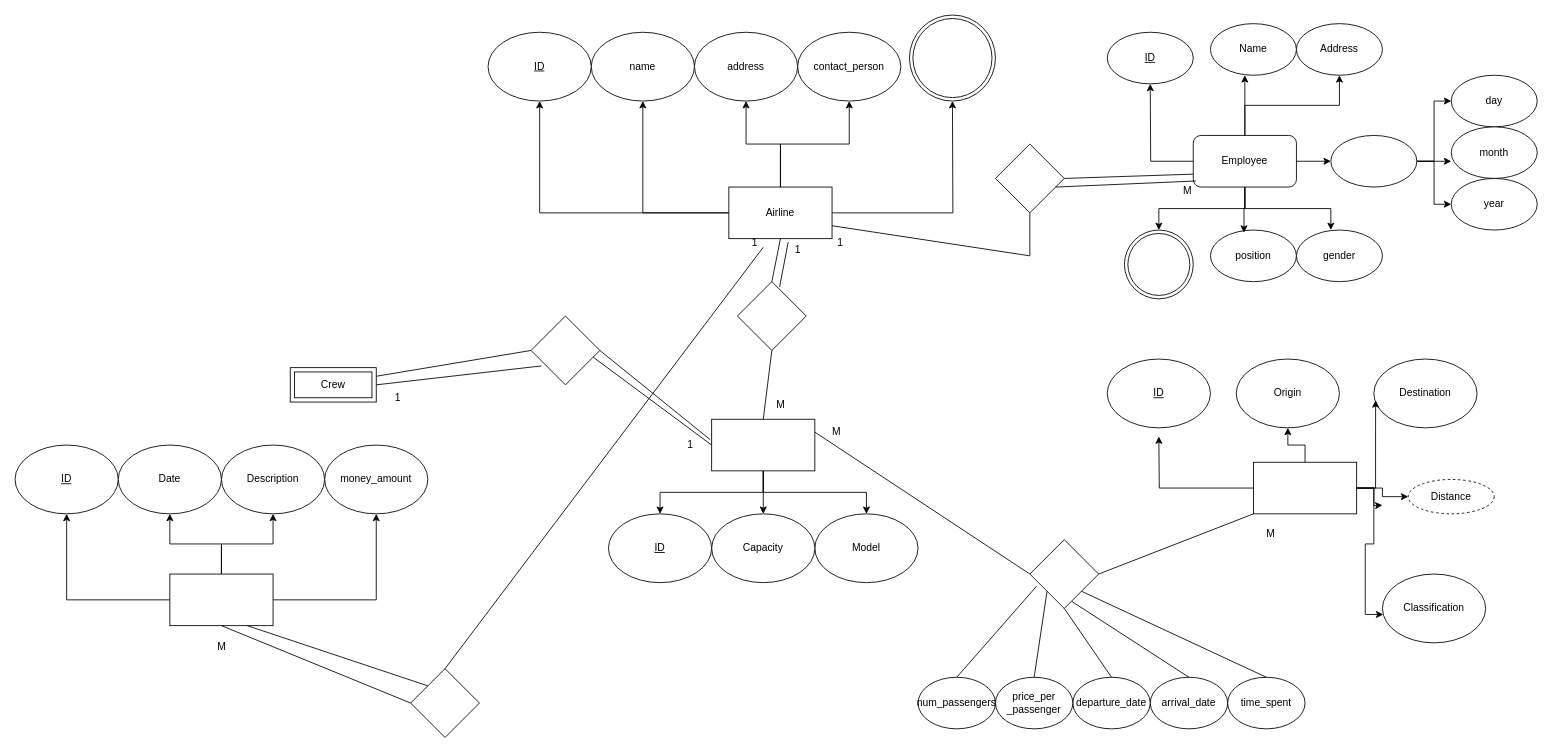
The diagram is 1552 pixels wide and 753 high, and some of its shapes have lost their labels. The shapes that lost their labels are listed below. From the top down, each one's centre as x and y in pixels, then its label:
At point 952,57: "phone_numbers".
At point 1029,178: "works_in".
At point 1373,161: "birthday".
At point 1158,264: "qualifications".
At point 771,315: "owns".
At point 565,350: "has".
At point 763,444: "Aircraft".
At point 1305,487: "Route".
At point 1064,573: "assigned".
At point 221,599: "Transaction".
At point 444,702: "keeps".
